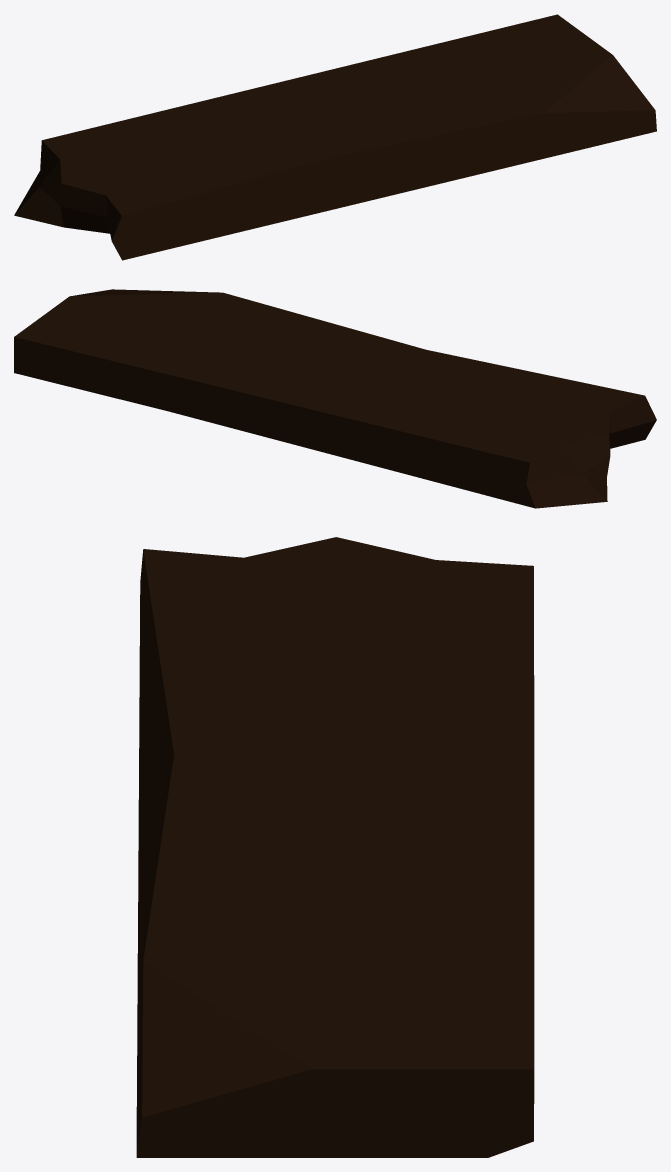
The model's file is wooden plank broken 2.fbx.
3 views of the same model, one above another, from view 1: azimuth 30°, elevation 25°; view 2: azimuth 150°, elevation 25°; view 3: azimuth 270°, elevation 25° (orthographic). The views are drawn at different scales.
Parts seen in each view (by area): view 1: Wooden_Plank_Broken_2; view 2: Wooden_Plank_Broken_2; view 3: Wooden_Plank_Broken_2.
Part boxes in pixels (bbox=[...]): Wooden_Plank_Broken_2: bbox=[14, 14, 656, 260]; Wooden_Plank_Broken_2: bbox=[14, 289, 656, 508]; Wooden_Plank_Broken_2: bbox=[136, 537, 534, 1157].
Bounding box in the file's own units: 132 × 9.83 × 40.04.
